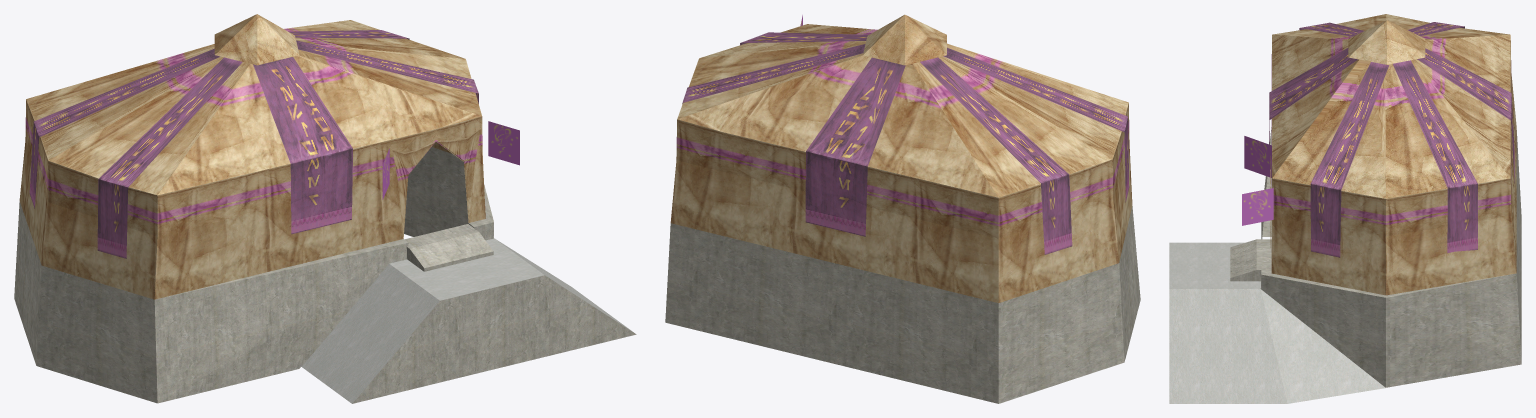
Rendered from ply_corl_idesigner_tent_s01_r0_mesh_l1.fbx.
3 views of the same model, side by side, from view 1: azimuth 30°, elevation 25°; view 2: azimuth 150°, elevation 25°; view 3: azimuth 270°, elevation 25° (orthographic). The views are drawn at different scales.
Visible parts, largest first — view 1: mesh_node; view 2: mesh_node; view 3: mesh_node.
Boxes of the visible parts, x1,y1,x2,y2 form: mesh_node: [14, 14, 636, 403]; mesh_node: [665, 14, 1140, 403]; mesh_node: [1169, 14, 1521, 403].
Bounding box in the file's own units: 17.22 × 10.19 × 12.03.
